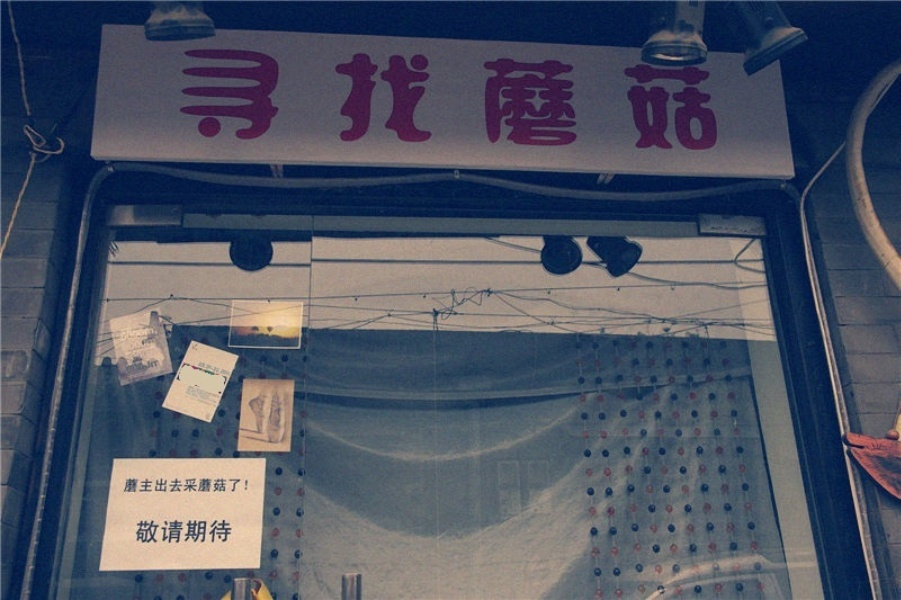text: (193, 42, 208, 156), (209, 42, 224, 156), (225, 42, 240, 156), (241, 42, 256, 156), (257, 42, 272, 156), (273, 42, 288, 156), (289, 42, 304, 156), (305, 42, 320, 156), (321, 42, 336, 156), (337, 42, 352, 156), (353, 42, 368, 156), (369, 42, 384, 156), (385, 42, 400, 156), (401, 42, 416, 156), (417, 42, 432, 156), (433, 42, 448, 156), (449, 42, 464, 156), (465, 42, 480, 156), (481, 42, 496, 156), (497, 42, 512, 156), (513, 42, 528, 156), (529, 42, 544, 156), (545, 42, 560, 156), (561, 42, 576, 156), (577, 42, 592, 156), (593, 42, 608, 156), (609, 42, 624, 156), (625, 42, 640, 156), (641, 42, 656, 156), (657, 42, 672, 156), (673, 42, 688, 156), (689, 42, 704, 156), (705, 42, 720, 156), (184, 42, 192, 156), (145, 519, 160, 543), (161, 519, 176, 543), (177, 519, 192, 543), (193, 519, 208, 543), (209, 519, 224, 543), (129, 327, 144, 343), (129, 338, 144, 353), (209, 361, 224, 376), (129, 478, 144, 492), (145, 478, 160, 492), (161, 478, 176, 492), (177, 478, 192, 492), (193, 478, 208, 492), (209, 478, 224, 492), (225, 478, 240, 492), (129, 360, 144, 374), (145, 360, 160, 374), (145, 338, 158, 353), (225, 519, 233, 543), (137, 519, 144, 543), (145, 327, 155, 343), (120, 327, 128, 343), (241, 478, 249, 492), (201, 361, 208, 376), (225, 361, 231, 376), (123, 338, 128, 353), (123, 478, 128, 492), (127, 360, 128, 374)
